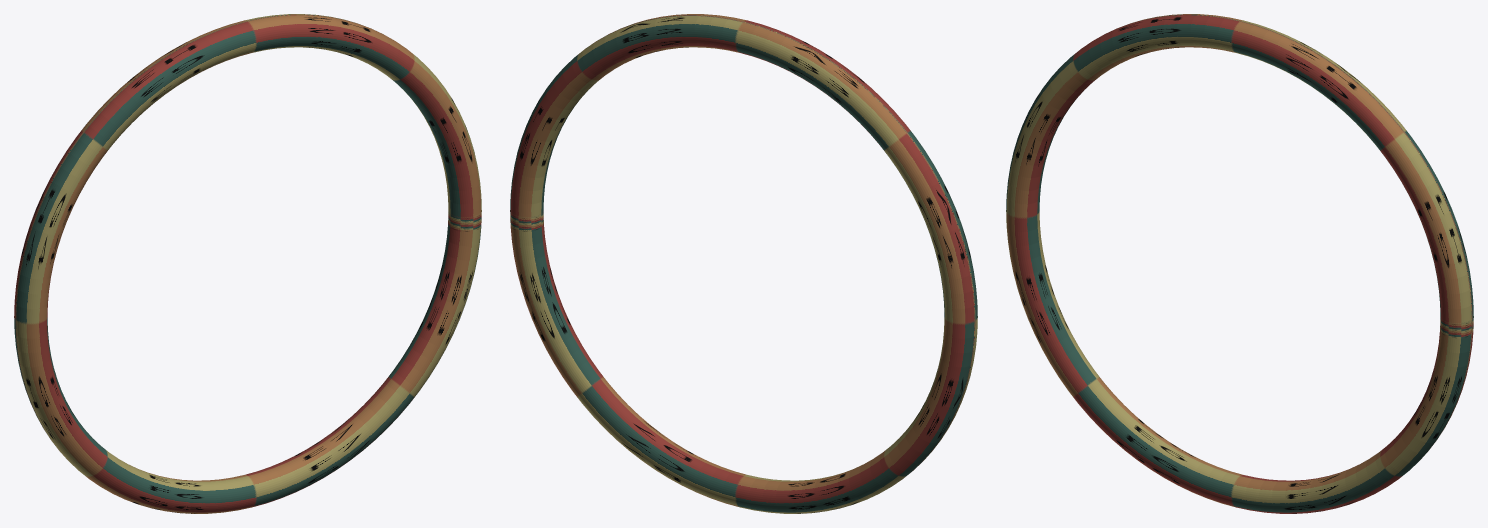
File: texture_torus_R9_r0.glb
3 views of the same model, side by side, from view 1: azimuth 30°, elevation 25°; view 2: azimuth 150°, elevation 25°; view 3: azimuth 330°, elevation 25° (orthographic).
Parts seen in each view (by area): view 1: world; view 2: world; view 3: world.
Part boxes in pixels (bbox=[...]): world: bbox=[14, 14, 481, 513]; world: bbox=[510, 14, 977, 513]; world: bbox=[1006, 14, 1473, 513].
Bounding box in the file's own units: 32 × 32 × 2.
1 material, 1 textured.
